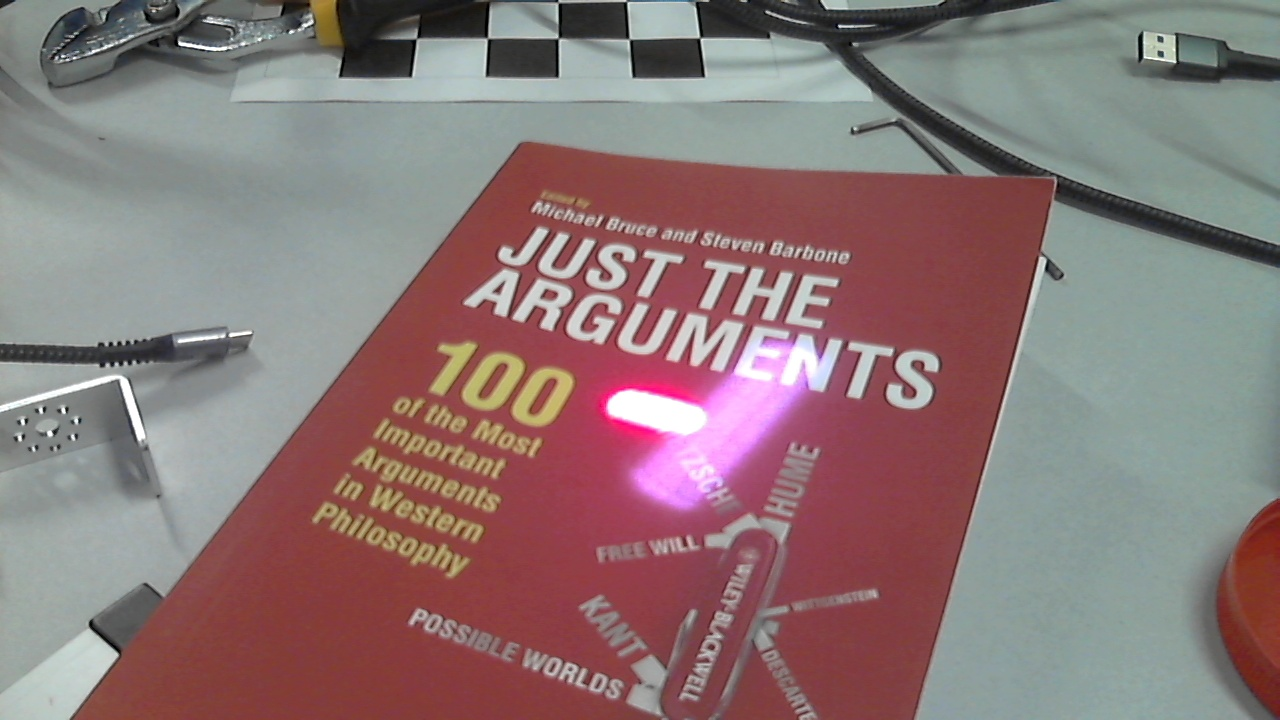Object book - Material paper - Color red - Pdfname QP9o9Hihi4G7: (499, 247, 864, 552)
